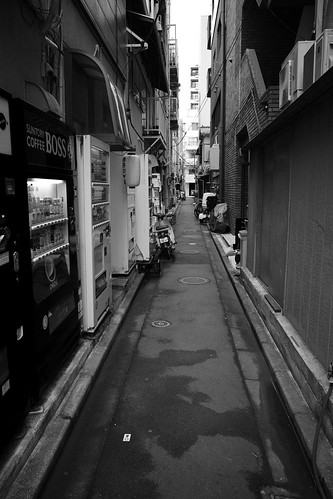building: (1, 6, 168, 499), (215, 1, 333, 482)
motorcycle: (149, 207, 179, 261)
